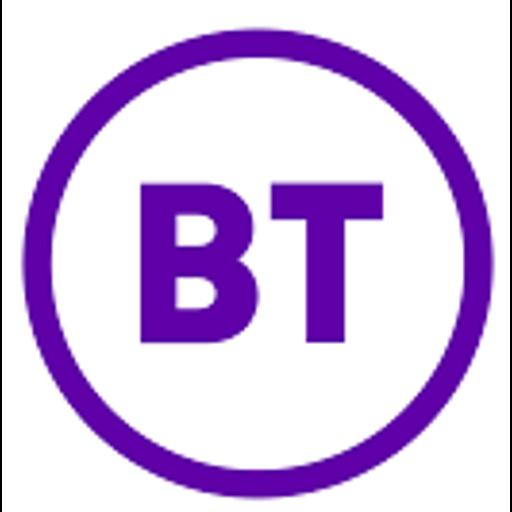BT Group plc: (2, 0, 510, 512)
